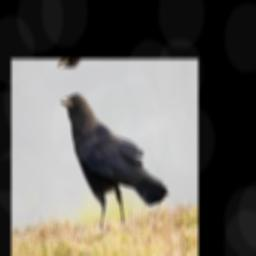Crow: (58, 76, 171, 236)
